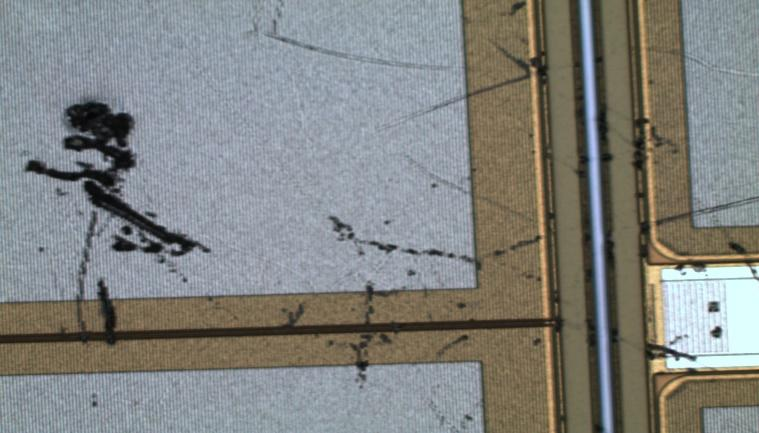SCRATCH: (17, 1, 759, 433)
